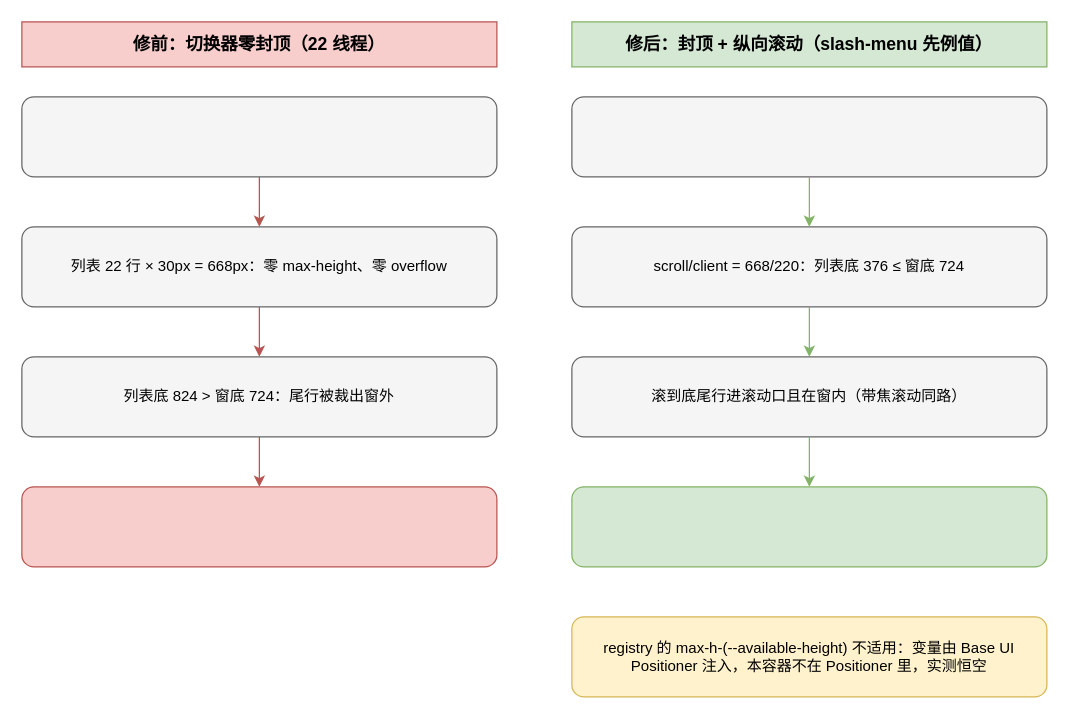
Image size: 1069x719. Some labels were removed from this diagram. The centre of each missing label's shape, as x and y in pixels:
"坐标级真实点击尾行 → active 切换；Tab ×21 + Enter 同达" goes at [809,526].
"容器加 max-h-[220px] overflow-y-auto（窗内绝对定位列表先例）" goes at [809,136].
"尾行中心点 elementFromPoint = null：看不见、滚不到、点不着" goes at [259,526].
"窗体 WINDOW_CLS = overflow-hidden、高 600px（刻意裁剪，不动）" goes at [259,136].
